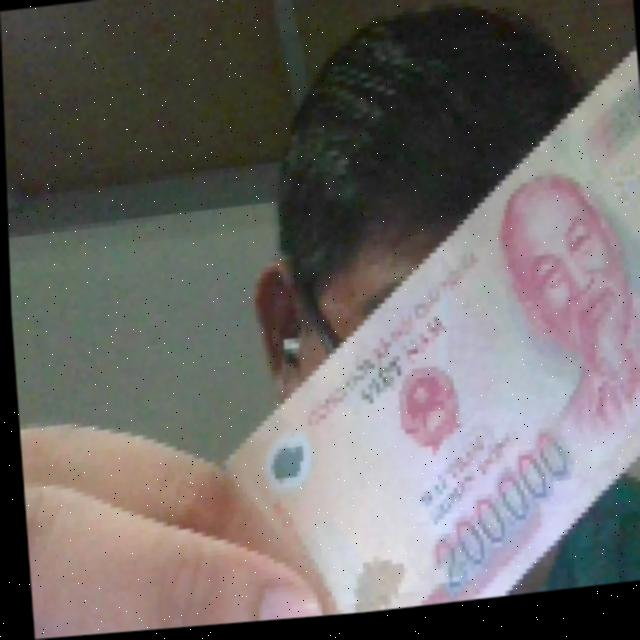200 000 VND: (189, 41, 640, 628)
